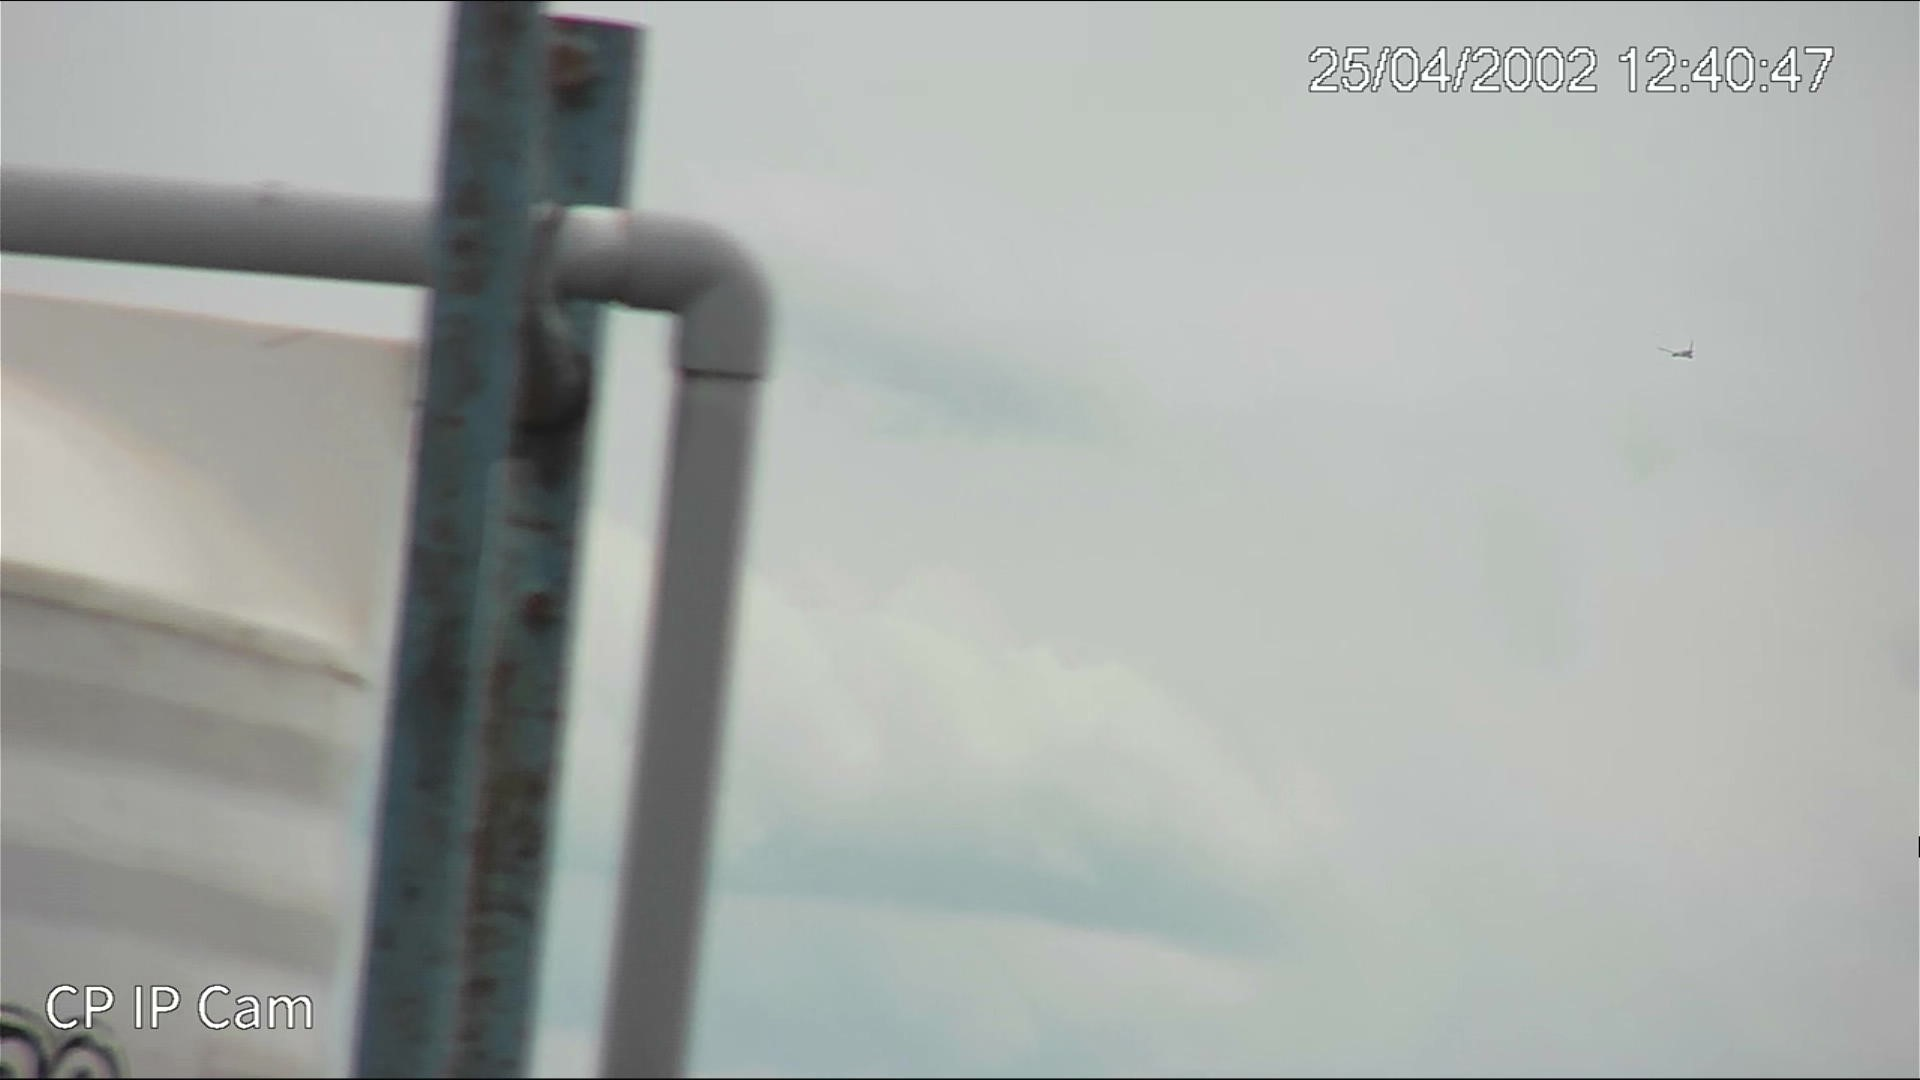SU_30: (1660, 342, 1698, 360)
